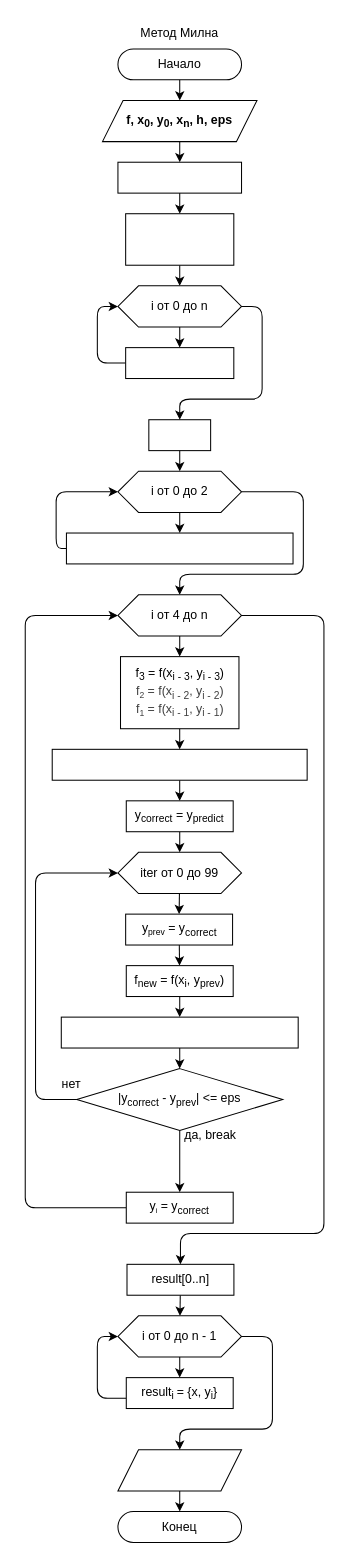
Image size: 350x1560. Some labels were removed from this diagram. Here are the shapes that lost their labels. From the top down, the box of each, then its label:
(117, 161, 242, 193): n = steps (x 0 , x n , h)
(125, 213, 234, 265): x [ 1..(n + 1) ] y [ 1..(n + 1) ]
(125, 347, 234, 379): x i = x 0 + i * h
(148, 419, 211, 451): y 0 = y 0
(65, 532, 293, 564): y i + 1 = rungeKutta4Step(f, x i , y i , h)
(51, 748, 307, 780): y predict = y i - 4 + 4 * h / 3 * (2 * f 3 - f 2 + 2 * f 1 )
(60, 1016, 298, 1048): y correct = y i - 2 + h / 3 * (f 2 + 4 * f 1 + f new )
(117, 1449, 242, 1491): result
